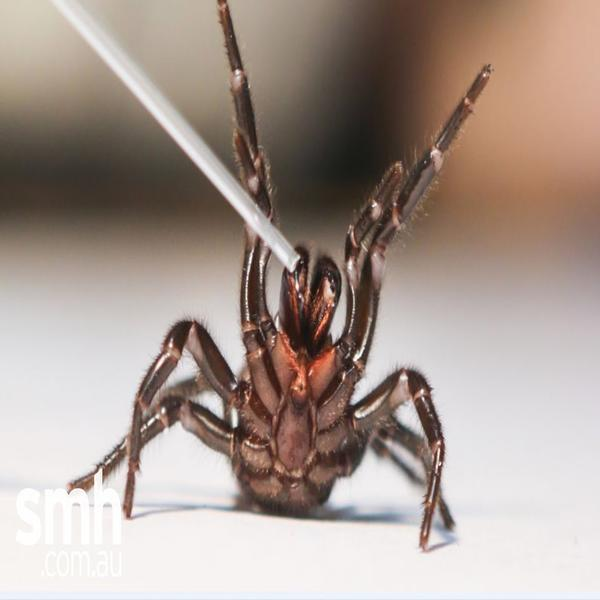Funnel Web Spider: (78, 7, 491, 543)
